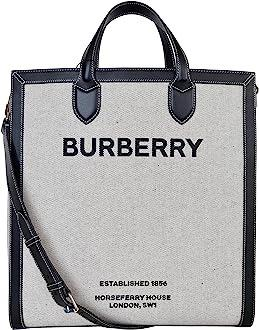BURBERRY: (63, 137, 203, 157)
